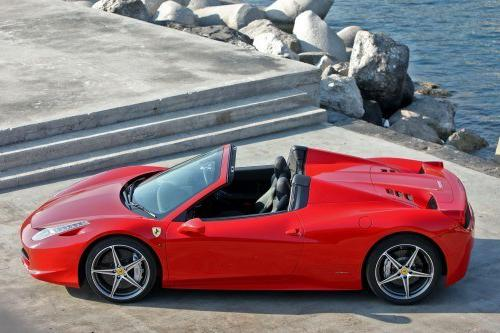Car: (11, 131, 492, 314)
